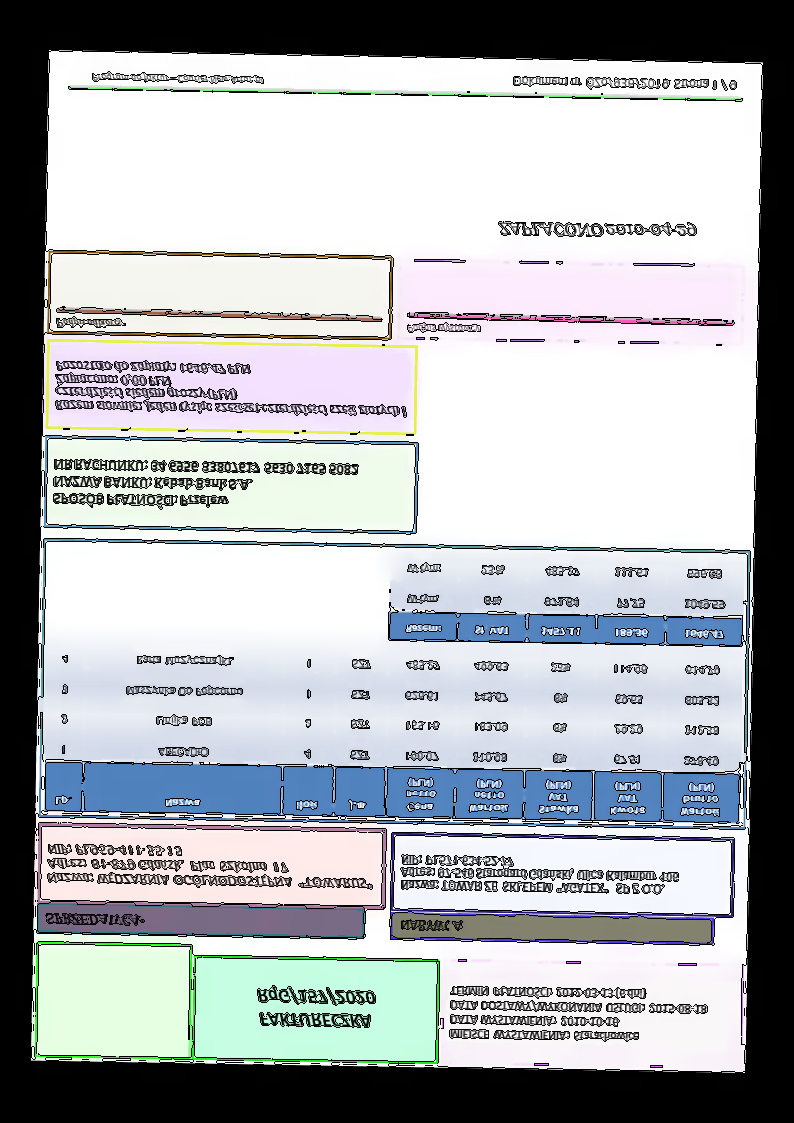Table: (42, 639, 743, 825), (387, 550, 745, 647)
TextBox: (52, 358, 409, 419), (50, 455, 361, 513), (44, 842, 374, 891), (447, 984, 709, 1044), (398, 854, 680, 896), (254, 983, 377, 1031), (496, 216, 698, 241), (511, 73, 738, 92), (88, 70, 265, 87), (42, 911, 145, 928), (398, 916, 467, 934), (405, 321, 483, 336), (54, 317, 128, 331)
